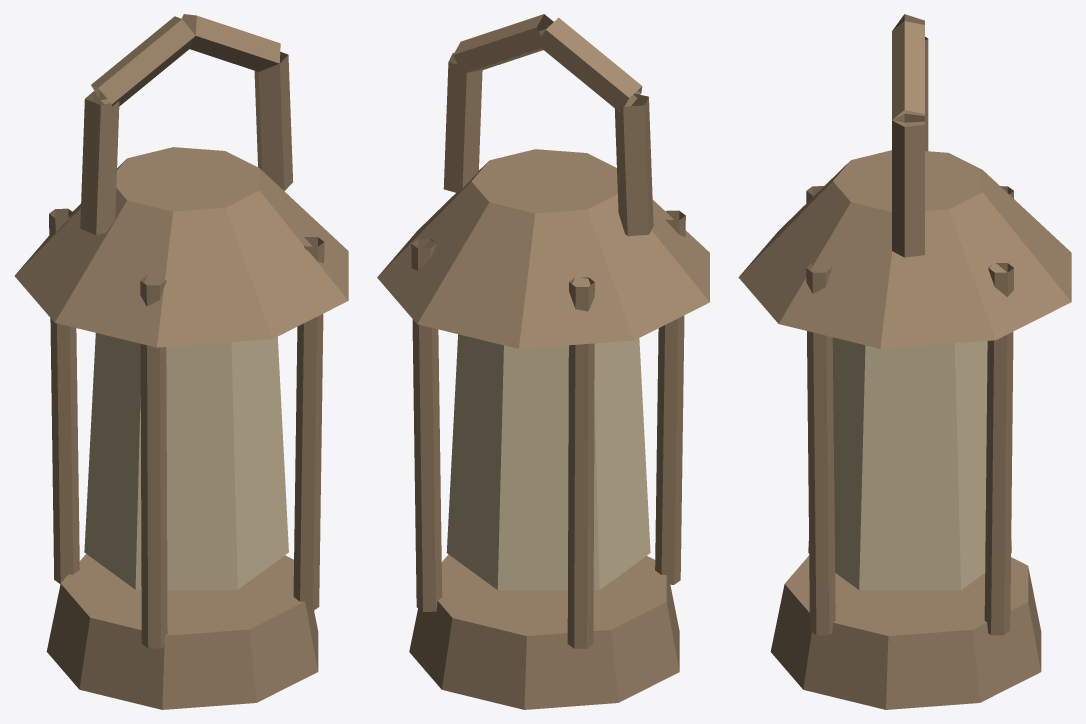
3 views of the same model, side by side, from view 1: azimuth 30°, elevation 25°; view 2: azimuth 150°, elevation 25°; view 3: azimuth 270°, elevation 25° (orthographic).
Visible parts, largest first — view 1: C16; view 2: C16; view 3: C16.
Boxes of the visible parts, box(x1,y1,x2,y2) form: C16: box(14, 14, 348, 709); C16: box(377, 14, 709, 709); C16: box(738, 14, 1071, 709).
Size of the model in its own units: 0.3151 by 0.6522 by 0.3104.
